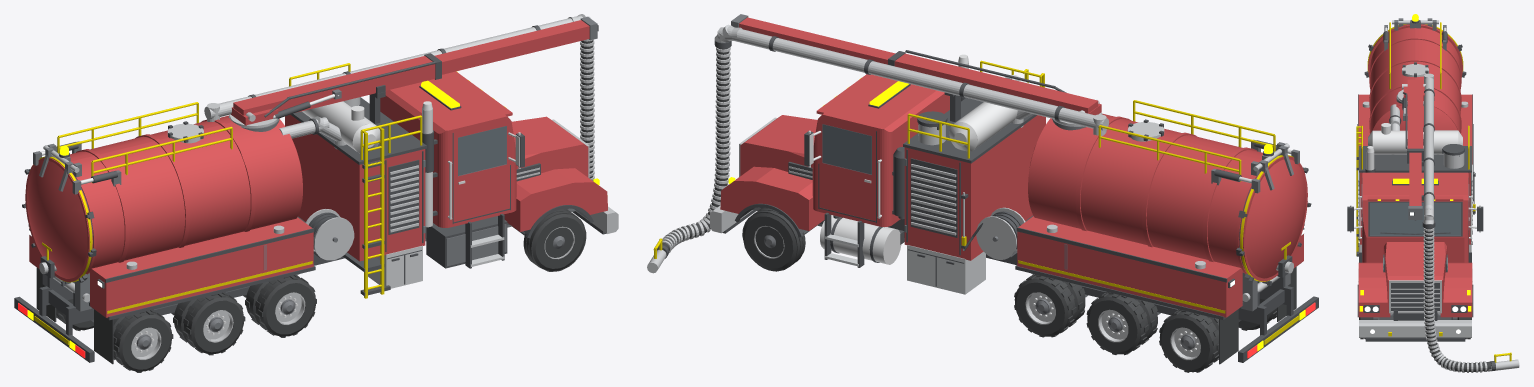
File: Hydrovac_Truck.glb
The picture shows the model from 3 angles, left to right: view 1: azimuth 30°, elevation 25°; view 2: azimuth 150°, elevation 25°; view 3: azimuth 270°, elevation 25°; orthographic projection. The views are drawn at different scales.
Parts seen in each view (by area): view 1: hood, front_suspension, tyres, rims, tow_hooks, hubs, wheel_nuts, windscreen, step_treads, amber_lamps; view 2: hood, front_suspension, rims, tyres, wheel_nuts, tow_hooks, step_treads, hubs, windscreen, amber_lamps; view 3: hood, front_suspension, rims, windscreen, wheel_nuts, tyres, tow_hooks, hubs, amber_lamps, white_lamps.
Boxes of the visible parts, x1=… form: hood: x1=25, y1=20, x2=607, y2=317; front_suspension: x1=14, y1=25, x2=605, y2=362; tyres: x1=36, y1=40, x2=593, y2=372; rims: x1=39, y1=14, x2=618, y2=359; tow_hooks: x1=34, y1=63, x2=422, y2=344; hubs: x1=33, y1=16, x2=597, y2=349; wheel_nuts: x1=41, y1=94, x2=520, y2=352; windscreen: x1=263, y1=126, x2=506, y2=270; step_treads: x1=297, y1=216, x2=504, y2=288; amber_lamps: x1=27, y1=71, x2=599, y2=350; hood: x1=720, y1=17, x2=1307, y2=317; front_suspension: x1=657, y1=36, x2=1318, y2=362; rims: x1=647, y1=24, x2=1293, y2=360; tyres: x1=662, y1=48, x2=1296, y2=372; wheel_nuts: x1=808, y1=54, x2=1291, y2=352; tow_hooks: x1=653, y1=60, x2=1298, y2=344; step_treads: x1=825, y1=234, x2=985, y2=294; hubs: x1=731, y1=14, x2=1299, y2=349; windscreen: x1=822, y1=124, x2=1067, y2=269; amber_lamps: x1=728, y1=78, x2=1305, y2=351; hood: x1=1358, y1=24, x2=1472, y2=317; front_suspension: x1=1347, y1=20, x2=1495, y2=370; rims: x1=1358, y1=20, x2=1519, y2=372; windscreen: x1=1361, y1=184, x2=1469, y2=235; wheel_nuts: x1=1350, y1=27, x2=1480, y2=238; tyres: x1=1359, y1=228, x2=1491, y2=371; tow_hooks: x1=1356, y1=22, x2=1511, y2=362; hubs: x1=1358, y1=18, x2=1472, y2=319; amber_lamps: x1=1359, y1=14, x2=1471, y2=311; white_lamps: x1=1364, y1=212, x2=1466, y2=333.
Size of the model in its own units: 222 by 76.5 by 76.14.
